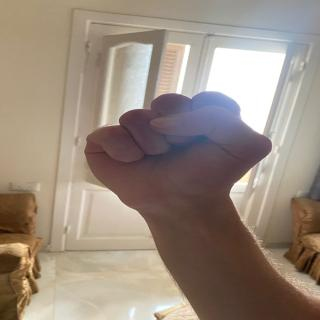SAD: (78, 79, 290, 205)
